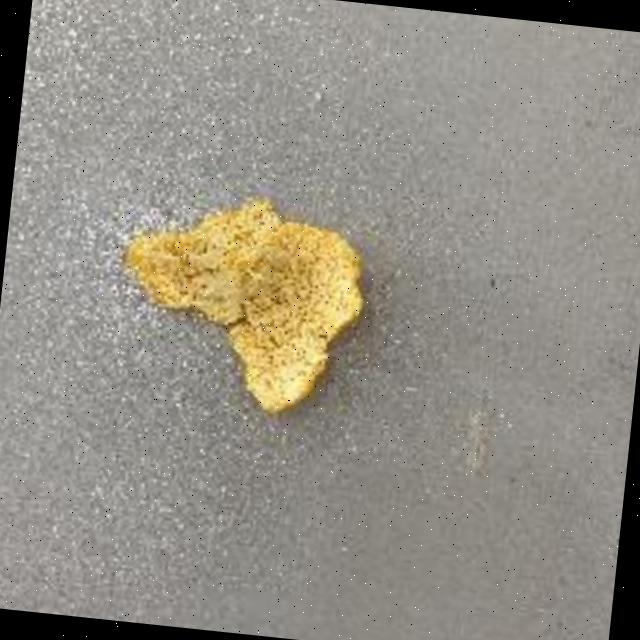orange-peel: (105, 180, 377, 424)
